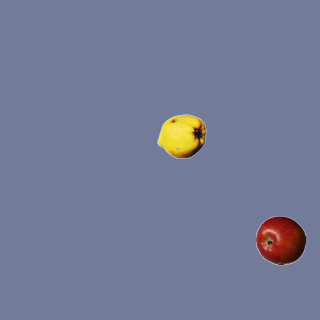Apple Braeburn: (255, 215, 305, 265)
Quince: (156, 111, 206, 161)
